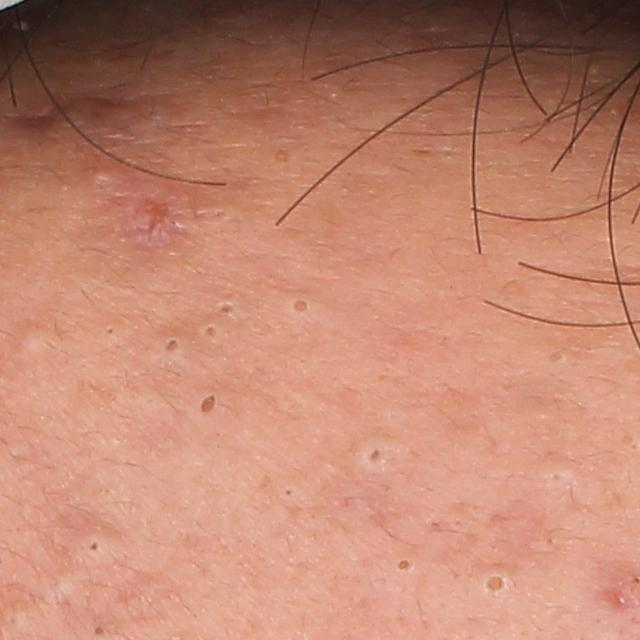comedo: (192, 388, 220, 421), (479, 568, 512, 596), (542, 461, 573, 490), (22, 328, 52, 356), (286, 295, 318, 320), (364, 443, 394, 468), (212, 295, 239, 320), (388, 554, 413, 576), (102, 321, 123, 345), (200, 323, 225, 342), (277, 481, 298, 502), (163, 335, 184, 355), (91, 623, 110, 636)
papule: (121, 182, 205, 268)
